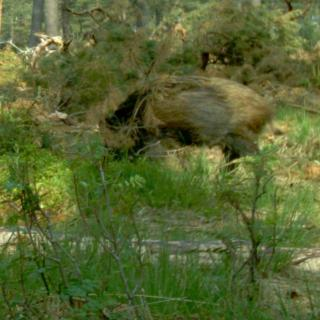Pig: (96, 59, 289, 169)
